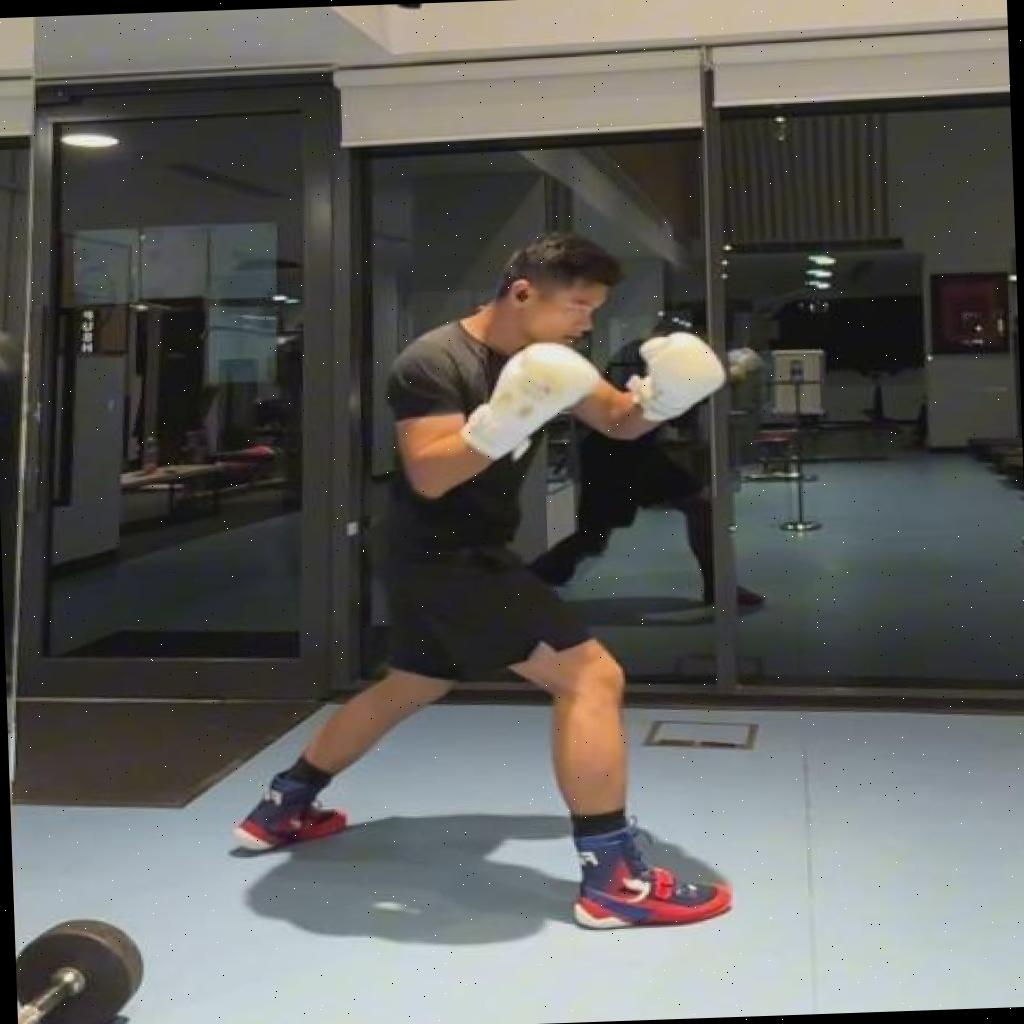no punch: (211, 222, 752, 950)
